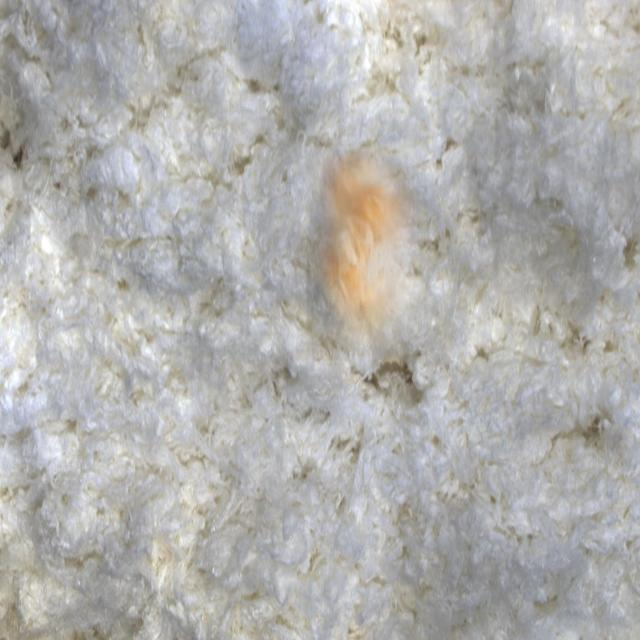dust: (307, 146, 424, 360)
